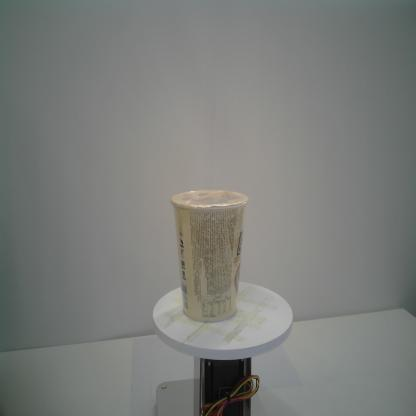Instant Noodles: (170, 190, 249, 324)
